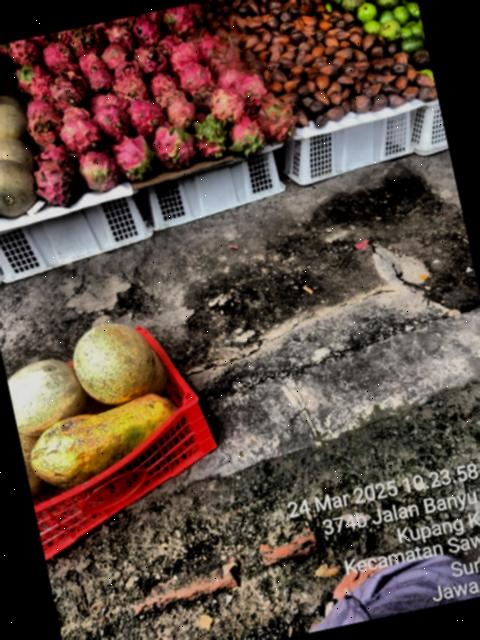buah-naga-belum-matang: (152, 119, 201, 172), (112, 129, 160, 183), (74, 146, 123, 196), (191, 111, 234, 163), (227, 114, 270, 160), (207, 87, 248, 123), (164, 96, 202, 131), (11, 62, 52, 94), (161, 4, 194, 35)
buah-naga-matang: (31, 156, 86, 208), (257, 92, 300, 144), (60, 115, 104, 155), (27, 110, 68, 152), (46, 73, 88, 111), (92, 101, 133, 139), (0, 36, 42, 71), (67, 22, 108, 57), (126, 98, 164, 134), (176, 60, 216, 94), (112, 74, 154, 106), (204, 40, 244, 72), (164, 39, 202, 71), (138, 46, 169, 78), (134, 14, 164, 46), (232, 72, 262, 104), (40, 42, 74, 70), (105, 21, 137, 50), (74, 51, 108, 78), (144, 72, 179, 98), (50, 59, 84, 85), (99, 41, 129, 70), (85, 89, 122, 112), (214, 58, 244, 86), (84, 66, 114, 94), (32, 144, 69, 166), (22, 94, 52, 119), (113, 60, 143, 82), (61, 104, 88, 122), (158, 32, 182, 50)
